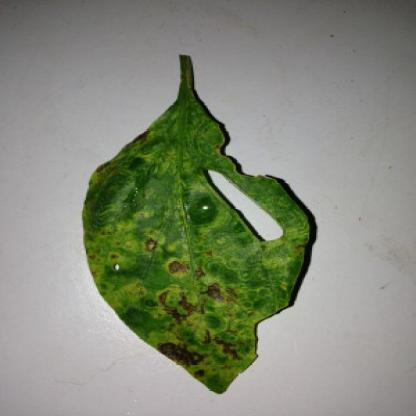bell pepper leaf spot: (49, 46, 356, 398)
